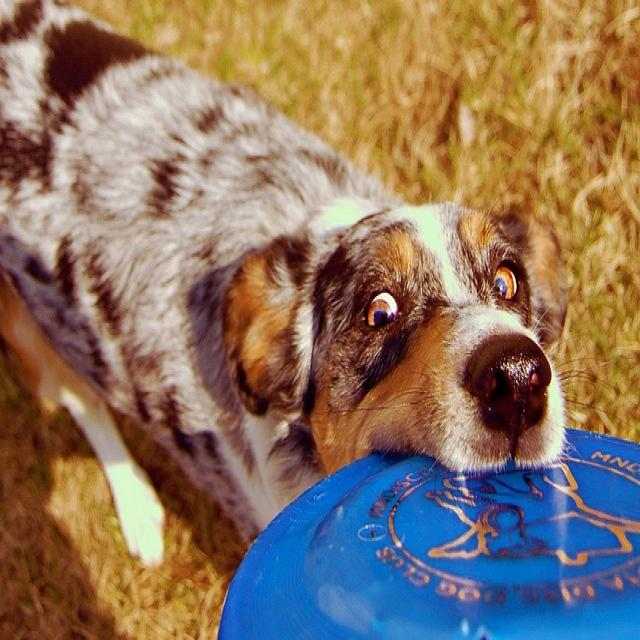dog: (1, 0, 563, 563)
